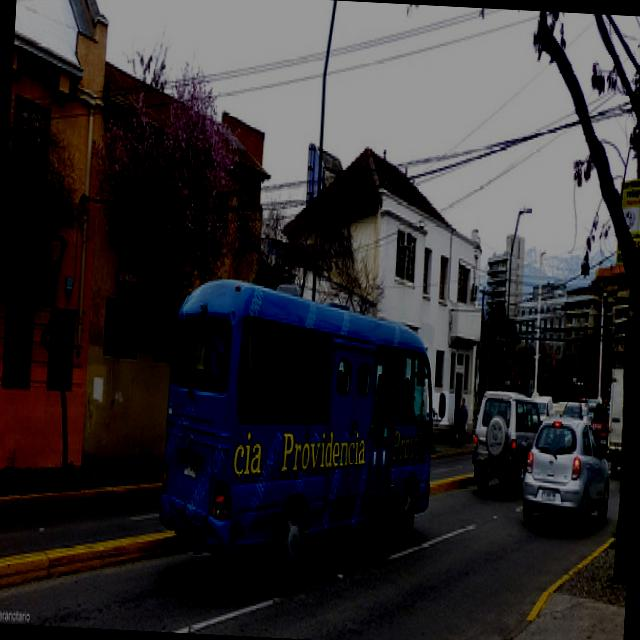Vehicle: (155, 274, 443, 590), (521, 414, 614, 536), (471, 394, 542, 496), (606, 367, 626, 476), (589, 402, 611, 460), (560, 402, 584, 422)
